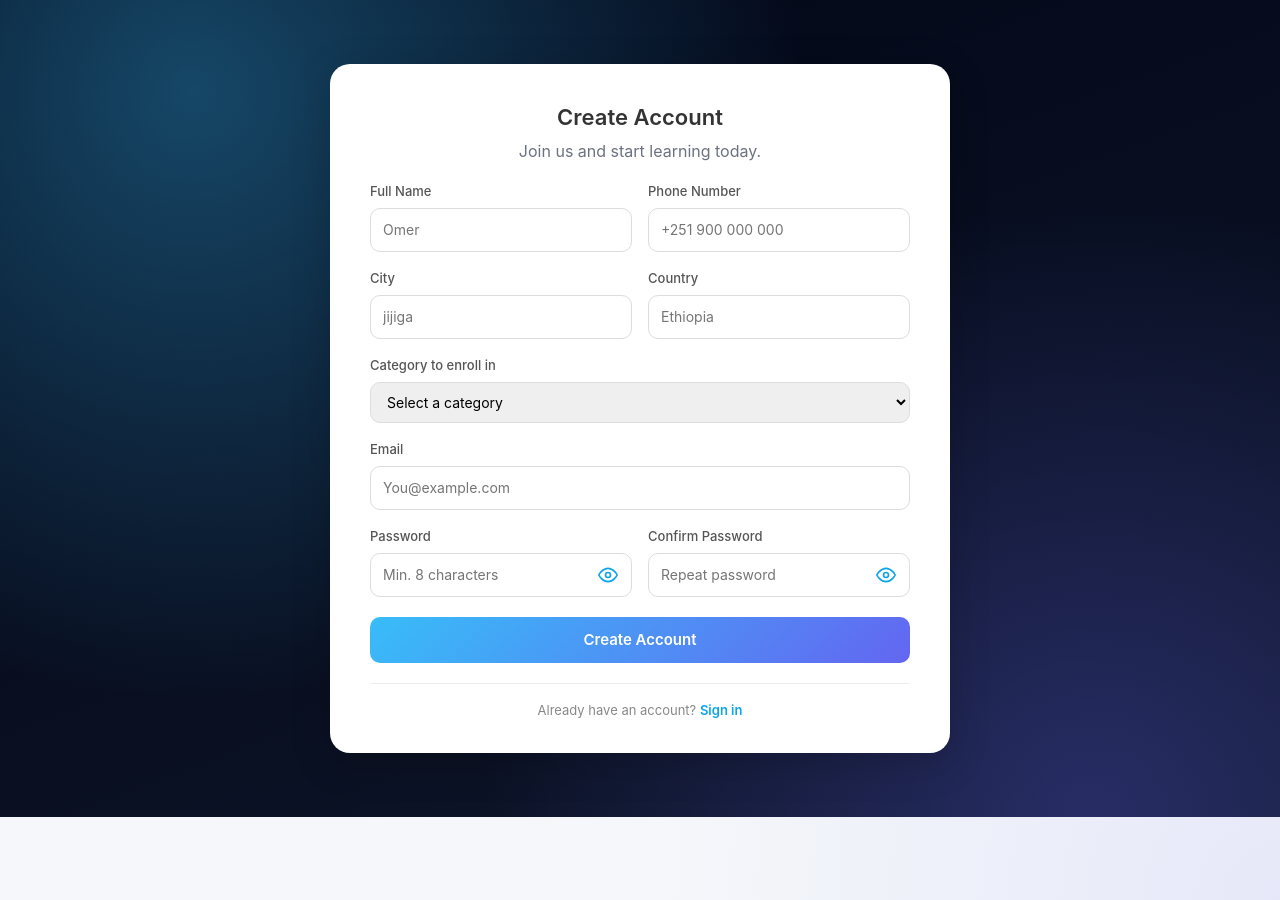
Test case: Register › specific field validation › shows an error when the password is too short
Type "short" into the password field labelled "Password". click: point(501, 575)
box: [370,553,632,597]
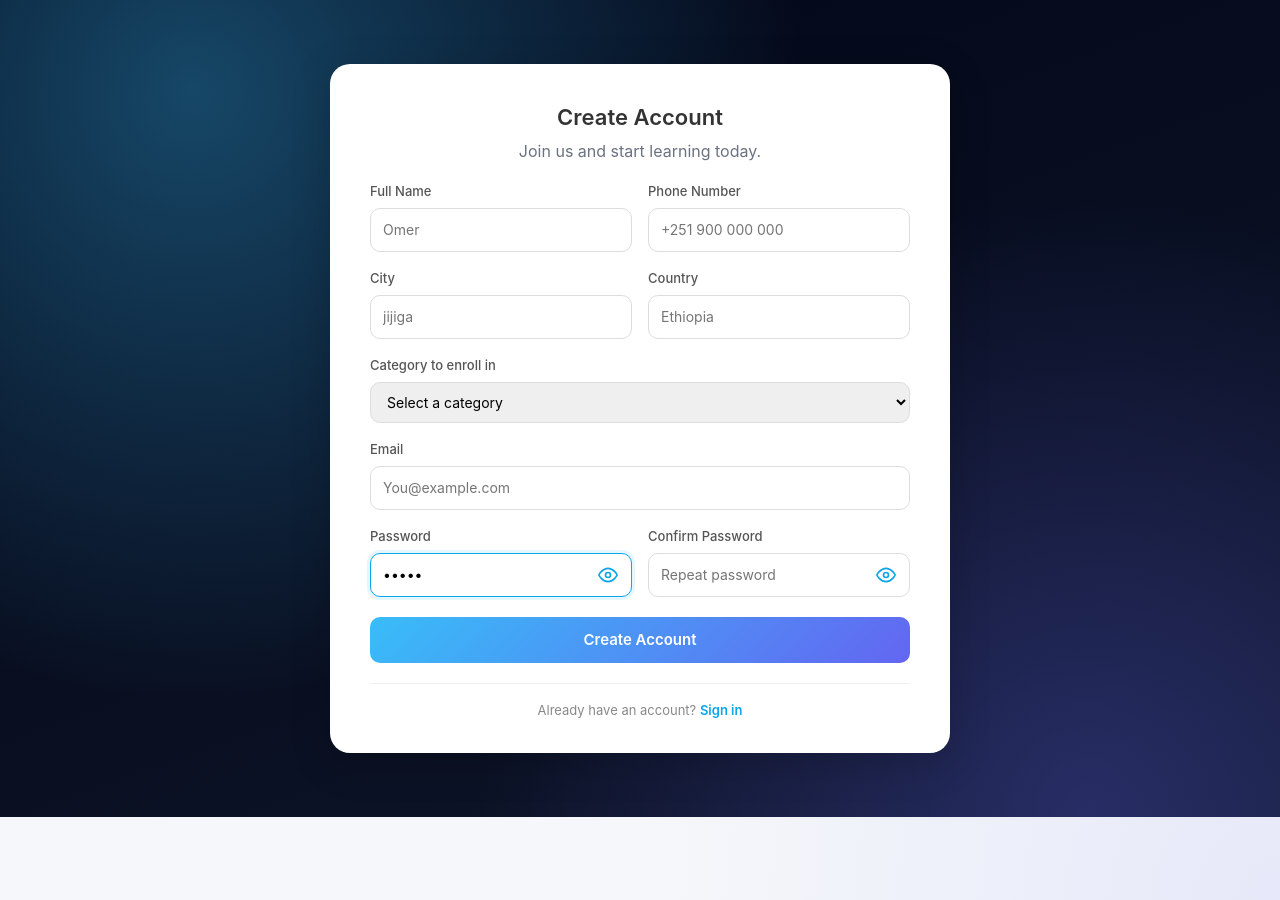
Click the button "Create Account". click: point(640, 640)
box: [370,617,910,663]
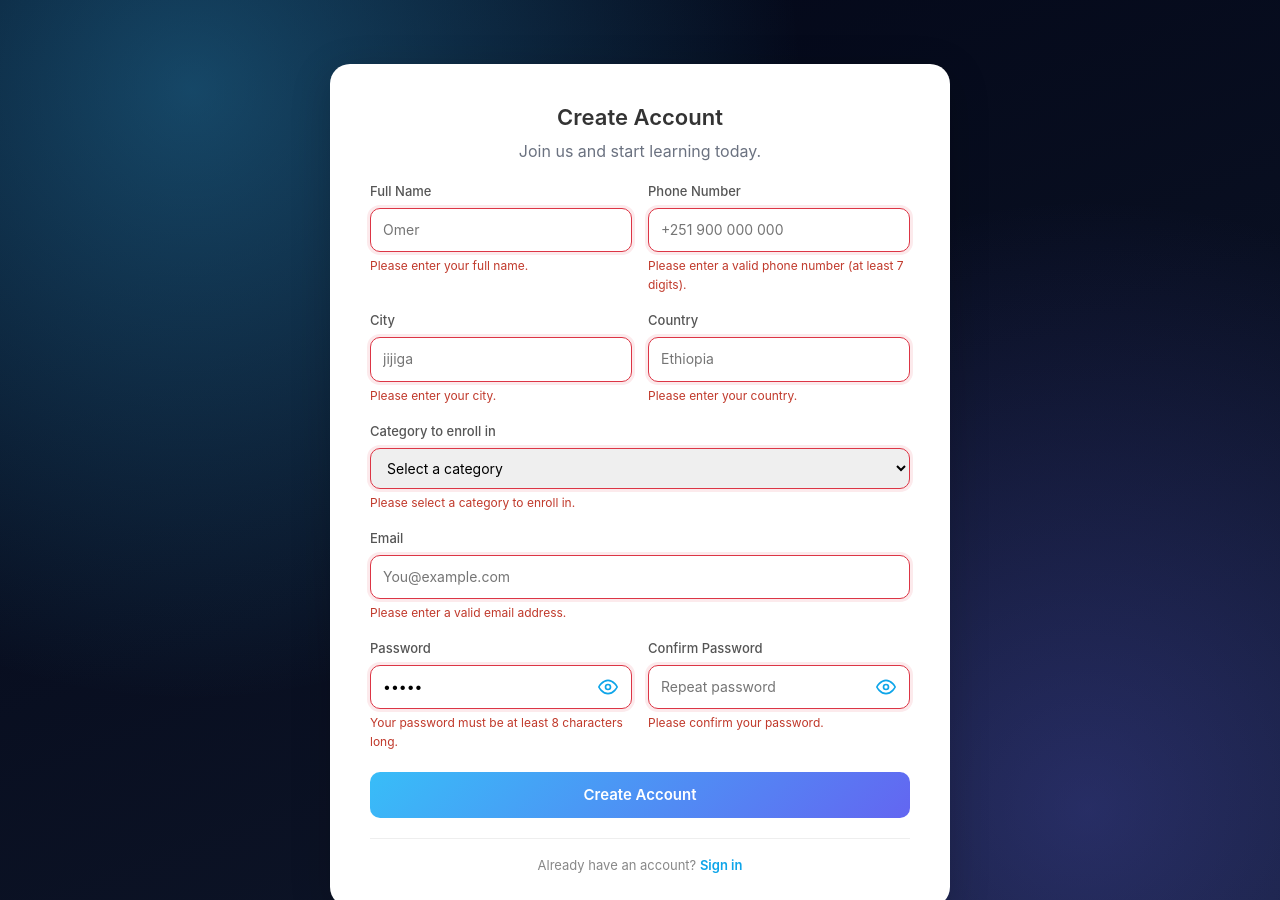
Check: the text "Your password must be at least 8 characters long." is shown, box [370,713,632,752]
